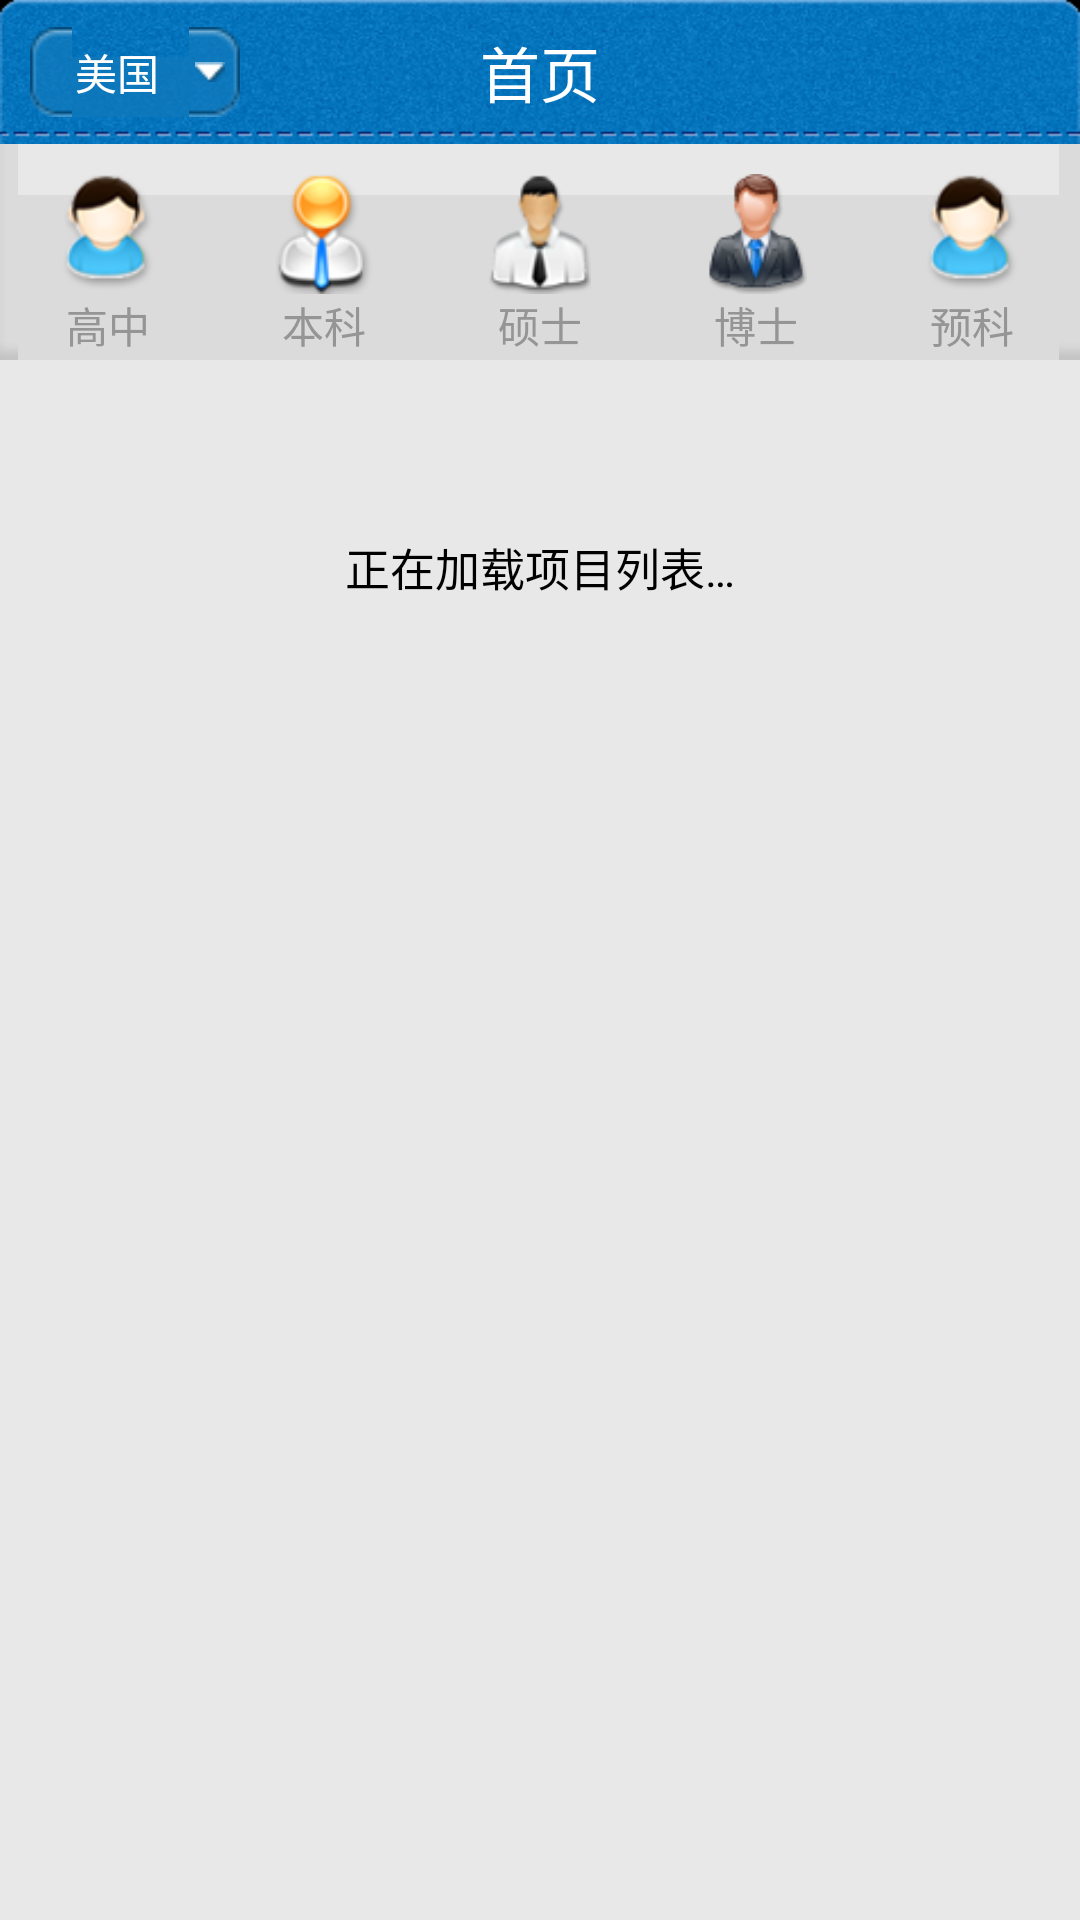

Icon click points for this 1080 x 1920 phone screenshot, format (x,y):
title arrow down: (210,72)
